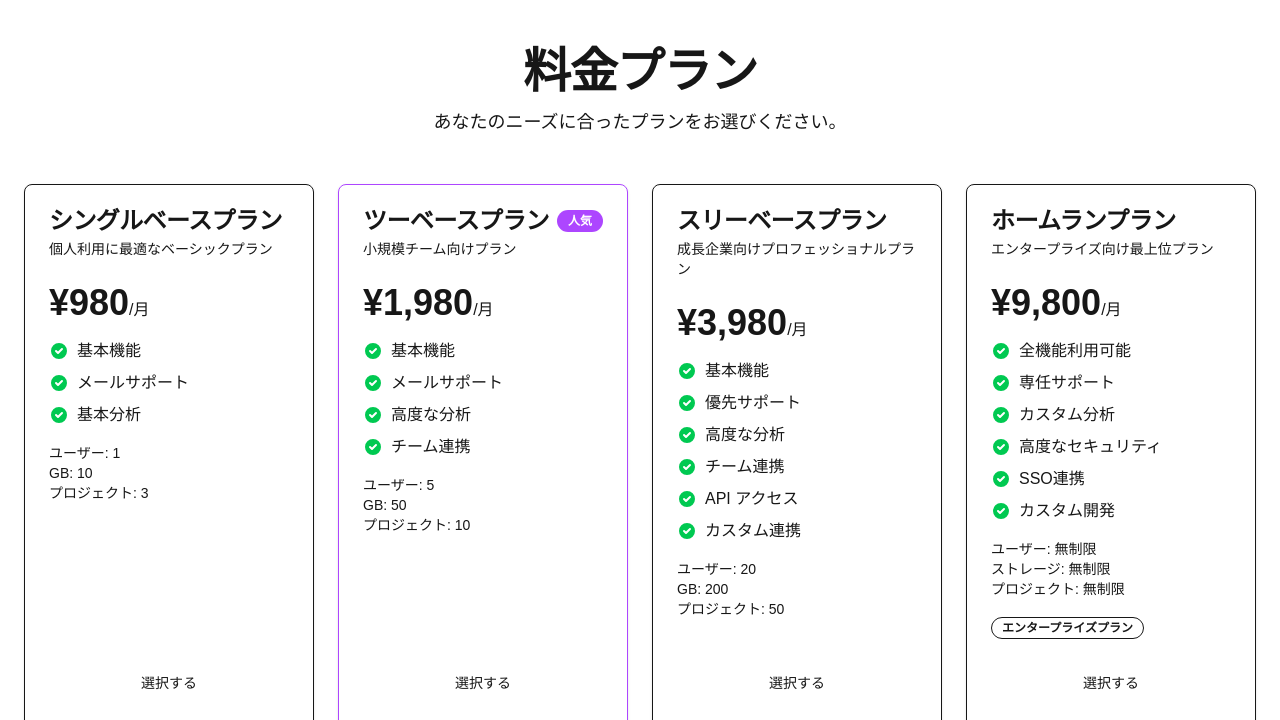
Test: SubscriptionPage Integration Test › should open a confirmation modal with the correct plan details when selecting a plan
The width and height of the screenshot is (1280, 720).
# Find and click the 'ツーベースプラン' card's select button
What coordinates should you click on to do the following:
click the button "選択する" below "プロジェクト: 10"
I would click on:
 (483, 683)
Its box is [363,663,603,703].
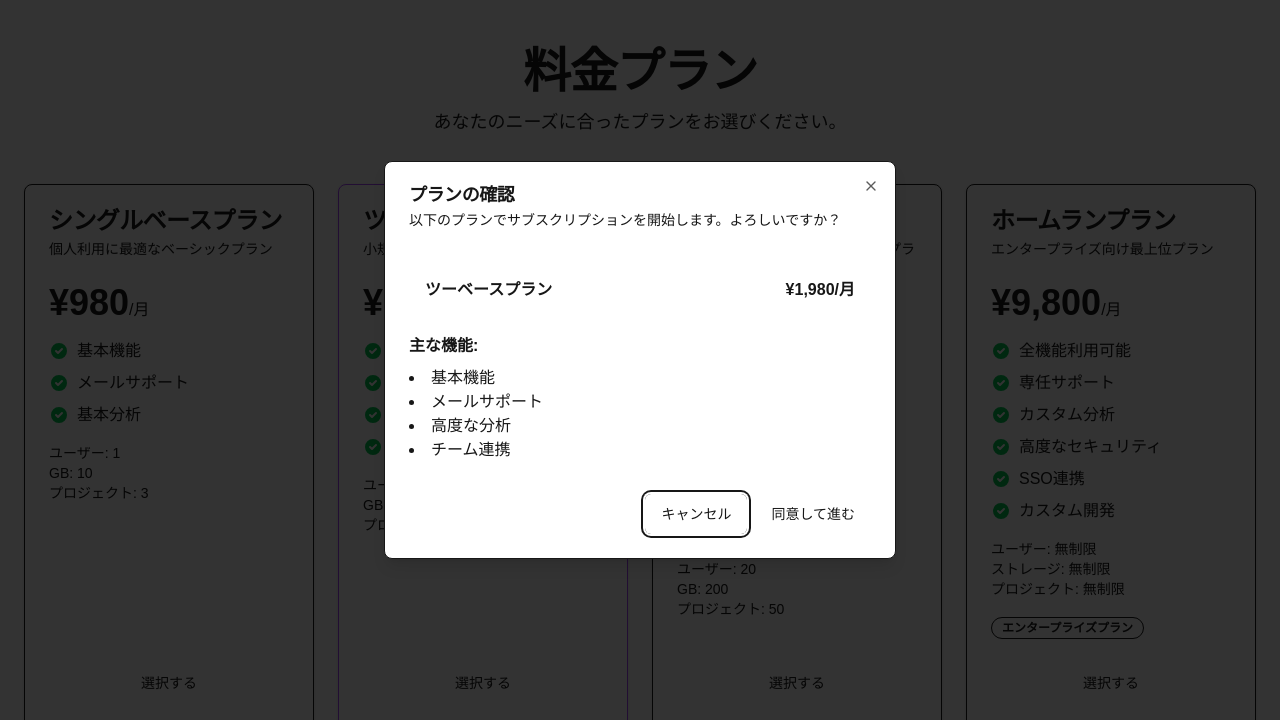
Check: the dialog is shown, box [384,161,896,559]
Check: the heading "プランの確認" is shown, box [409,185,514,205]
Check: the text "ツーベースプラン" is shown, box [425,278,552,302]
